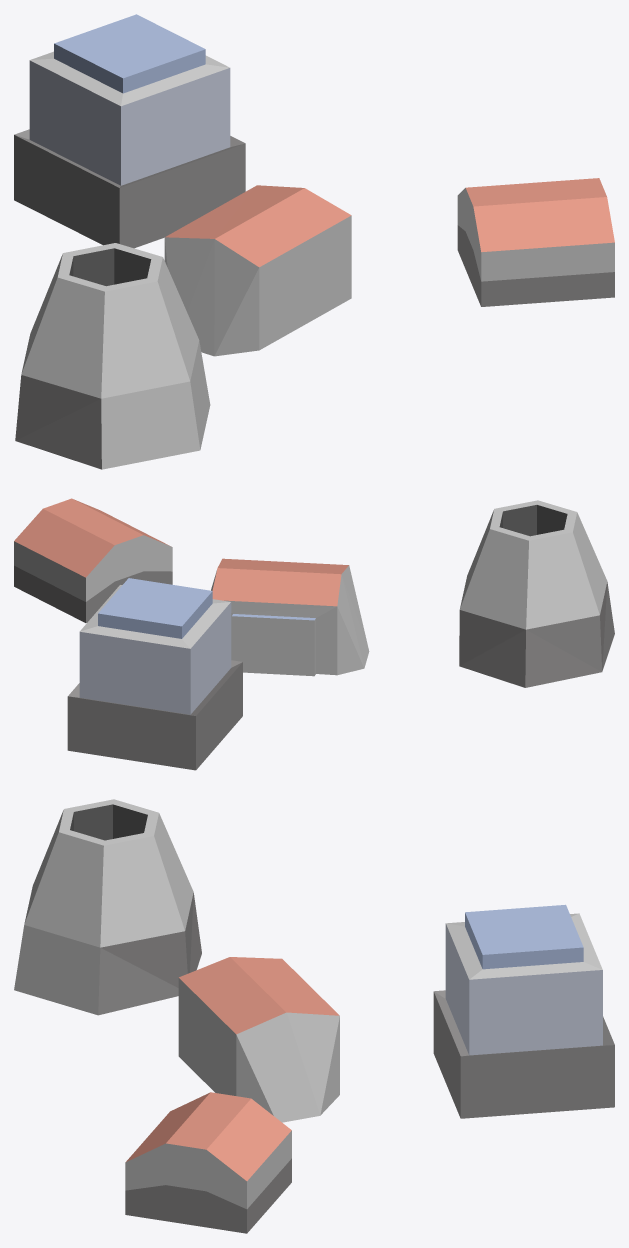
Rendered from beta02_01_xs.dae.
3 renders of one model, top to bottom at view 1: azimuth 30°, elevation 25°; view 2: azimuth 150°, elevation 25°; view 3: azimuth 270°, elevation 25°, orthographic. The views are drawn at different scales.
Parts seen in each view (by area): view 1: Cube; view 2: Cube; view 3: Cube.
Part boxes in pixels (bbox=[...]): Cube: bbox=[14, 14, 614, 469]; Cube: bbox=[14, 498, 614, 770]; Cube: bbox=[14, 799, 614, 1233].
Bounding box in the file's own units: 1.58 × 1.34 × 0.3876.
